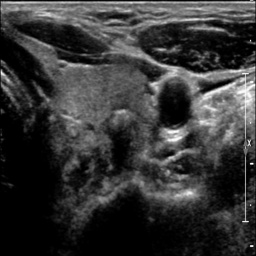mass: (156, 80, 193, 130)
